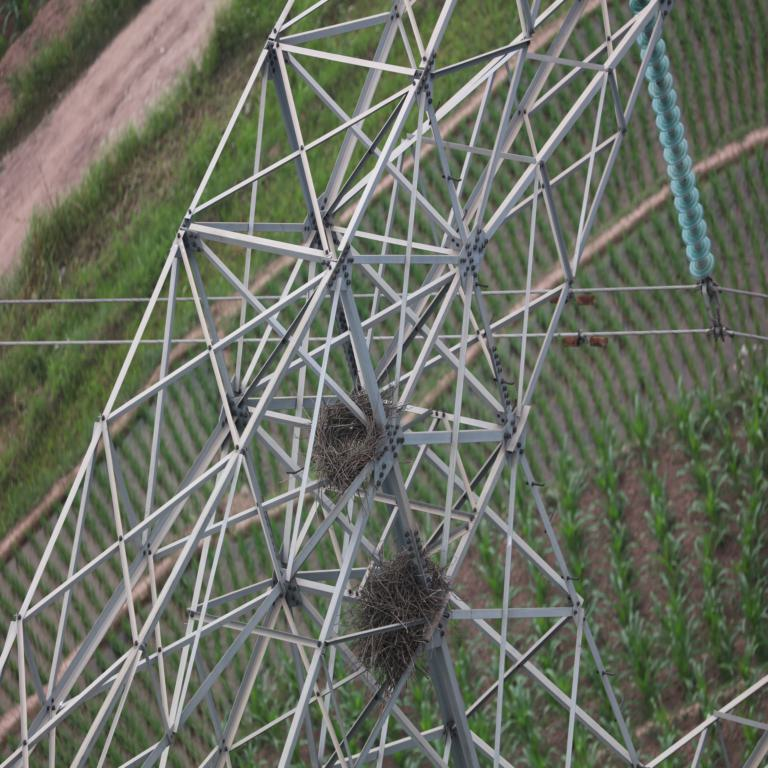nest: (352, 557, 445, 673), (314, 399, 382, 485)
